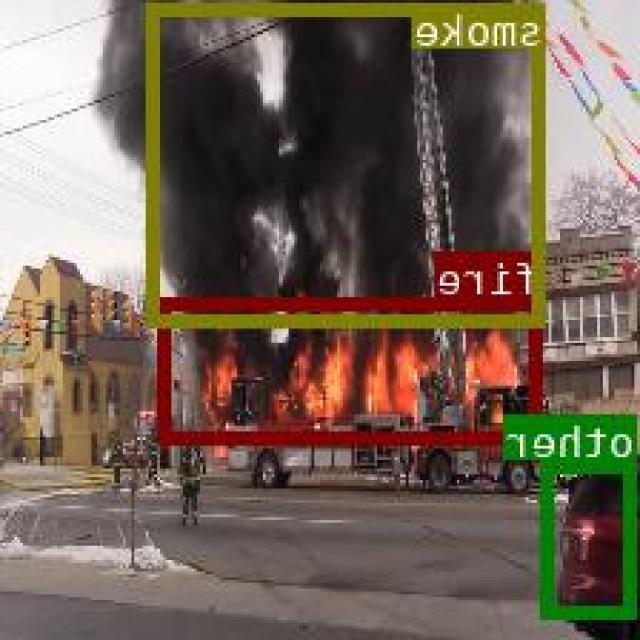fire: (161, 296, 545, 441)
other: (545, 458, 638, 615)
smoke: (150, 1, 546, 325)
